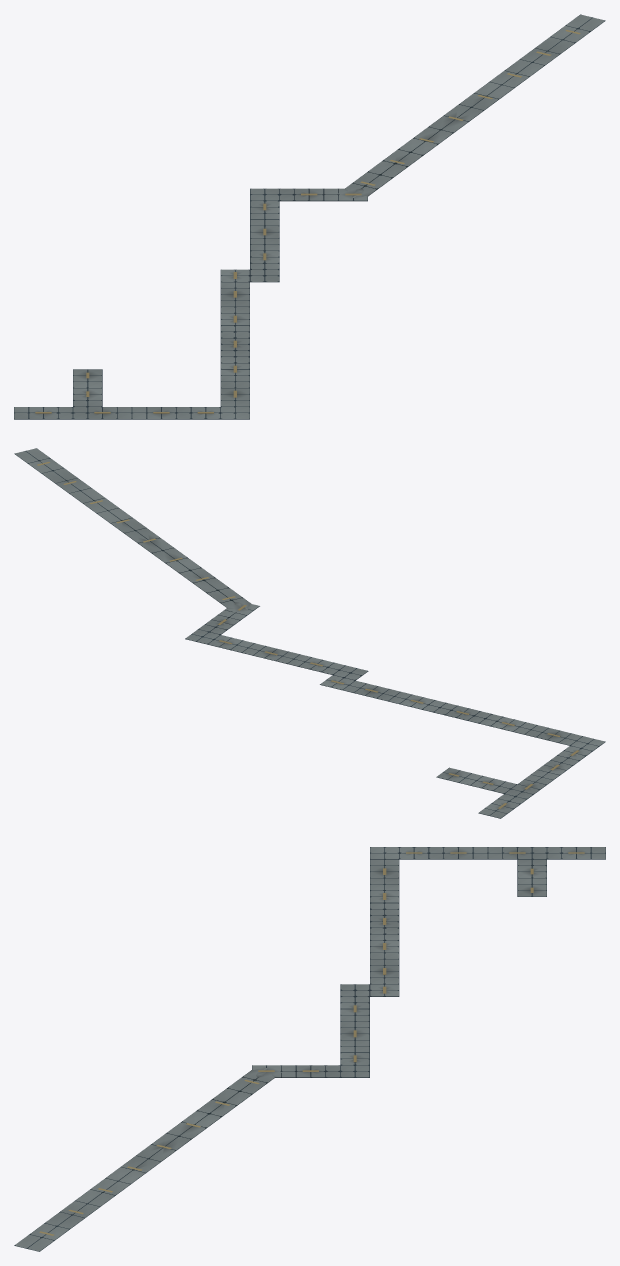
Rendered from moonveil-lantern-approach-v1.glb.
3 views of the same model, one above another, from view 1: azimuth 90°, elevation 25°; view 2: azimuth 150°, elevation 25°; view 3: azimuth 270°, elevation 25° (orthographic). The views are drawn at different scales.
Visible parts, largest first — view 1: GB_MOONVEIL_APPROACH_SLATE, GB_MOONVEIL_APPROACH_JOINT, GB_MOONVEIL_APPROACH_INLAY; view 2: GB_MOONVEIL_APPROACH_SLATE, GB_MOONVEIL_APPROACH_JOINT, GB_MOONVEIL_APPROACH_INLAY; view 3: GB_MOONVEIL_APPROACH_SLATE, GB_MOONVEIL_APPROACH_JOINT, GB_MOONVEIL_APPROACH_INLAY.
Part boxes in pixels (box(x1,y1,x2,y2)): GB_MOONVEIL_APPROACH_SLATE: box(14, 15, 603, 418); GB_MOONVEIL_APPROACH_JOINT: box(14, 14, 605, 419); GB_MOONVEIL_APPROACH_INLAY: box(35, 30, 580, 413); GB_MOONVEIL_APPROACH_SLATE: box(15, 448, 604, 817); GB_MOONVEIL_APPROACH_JOINT: box(14, 448, 605, 818); GB_MOONVEIL_APPROACH_INLAY: box(37, 462, 579, 808); GB_MOONVEIL_APPROACH_SLATE: box(16, 847, 605, 1251); GB_MOONVEIL_APPROACH_JOINT: box(14, 847, 605, 1251); GB_MOONVEIL_APPROACH_INLAY: box(39, 852, 584, 1235).
Size of the model in its own units: 64.93 by 0.0389 by 40.12.
